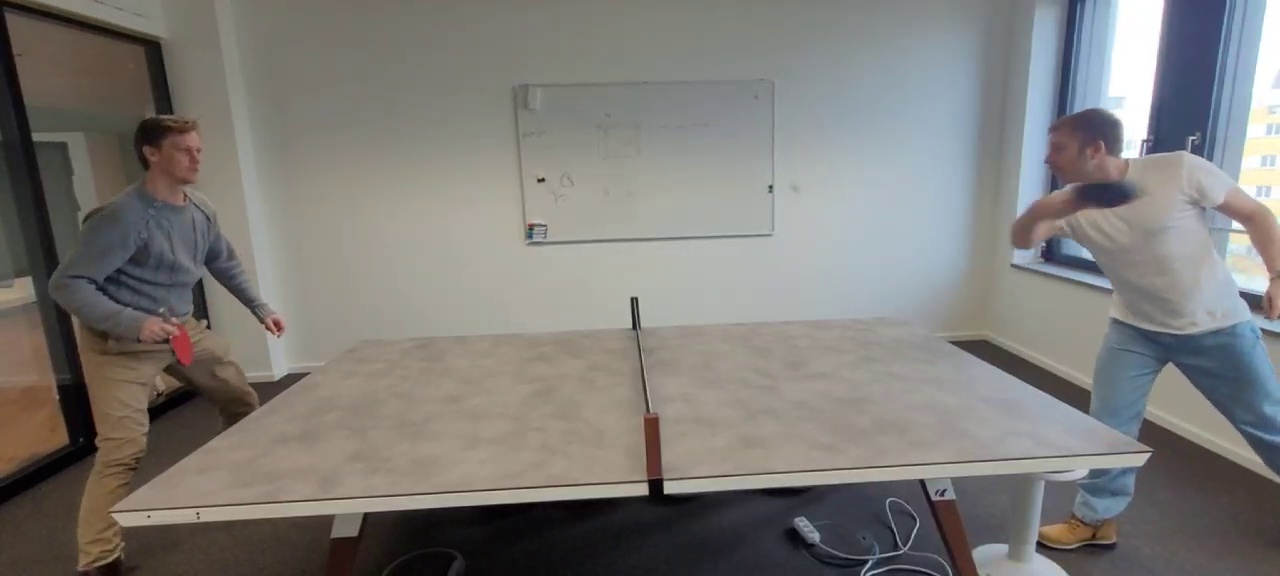1: (158, 307, 193, 367), (1074, 180, 1137, 210)
2: (792, 180, 802, 192)
ttplatte: (110, 316, 1152, 511)
